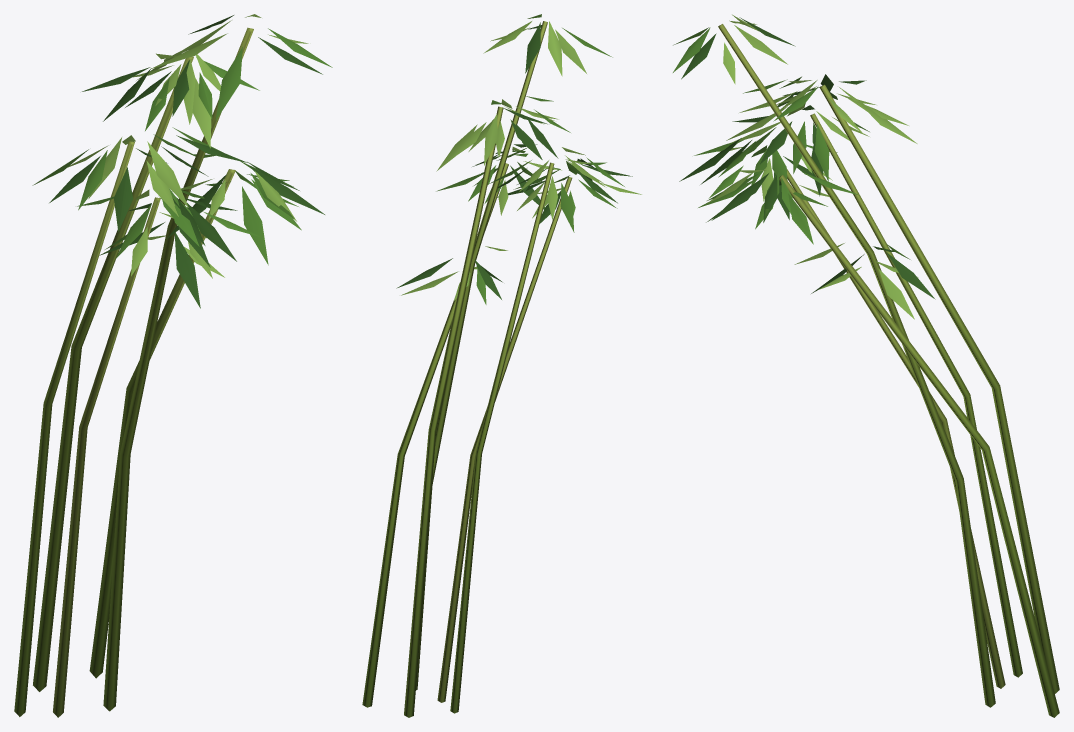
File: prop.bamboo_arch.lod1.glb
The picture shows the model from 3 angles, left to right: view 1: azimuth 30°, elevation 25°; view 2: azimuth 150°, elevation 25°; view 3: azimuth 270°, elevation 25°; orthographic projection. The views are drawn at different scales.
Parts seen in each view (by area): view 1: bamboo_arch; view 2: bamboo_arch; view 3: bamboo_arch.
Boxes of the visible parts, x1,y1,x2,y2 form: bamboo_arch: [14, 14, 332, 717]; bamboo_arch: [362, 14, 641, 717]; bamboo_arch: [673, 14, 1059, 717].
Size of the model in its own units: 3.91 by 12.28 by 6.35.
